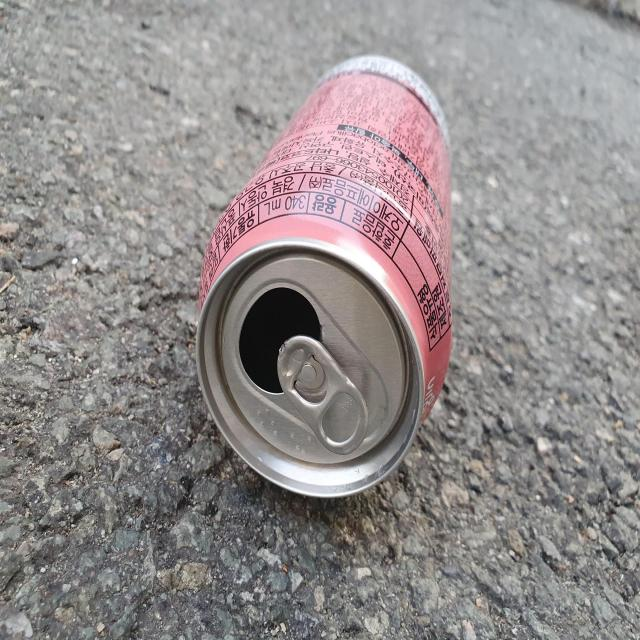can: (196, 55, 452, 498)
